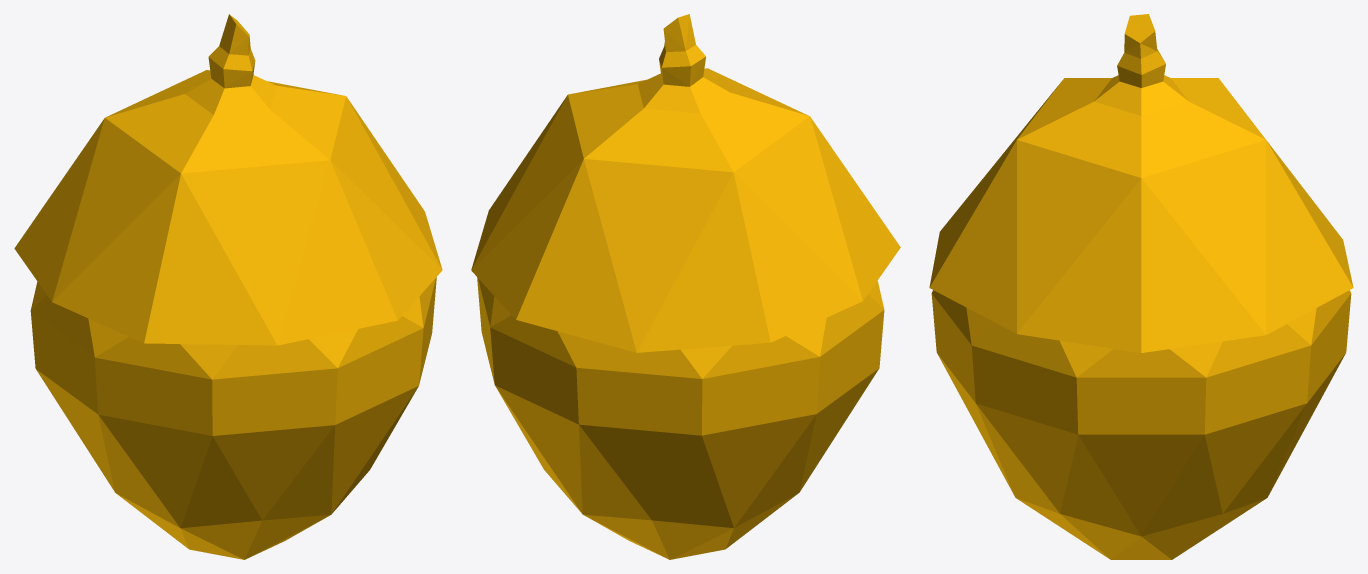
File: hazelnut.obj
3 views of the same model, side by side, from view 1: azimuth 30°, elevation 25°; view 2: azimuth 150°, elevation 25°; view 3: azimuth 270°, elevation 25° (orthographic).
Parts seen in each view (by area): view 1: Icosphere.001, Icosphere; view 2: Icosphere.001, Icosphere; view 3: Icosphere.001, Icosphere.
Part boxes in pixels (<box>): Icosphere.001: <box>14,14,442,345</box>; Icosphere: <box>30,277,436,559</box>; Icosphere.001: <box>471,14,900,352</box>; Icosphere: <box>477,277,884,559</box>; Icosphere.001: <box>929,14,1353,352</box>; Icosphere: <box>931,290,1351,559</box>.
Size of the model in its own units: 0.9139 by 1.26 by 0.891.
